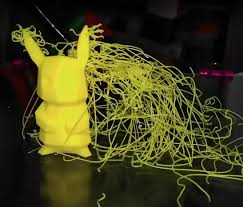fail: (87, 25, 243, 175), (13, 85, 50, 160), (165, 162, 218, 207), (10, 19, 48, 58), (53, 35, 79, 60), (88, 186, 117, 207)
